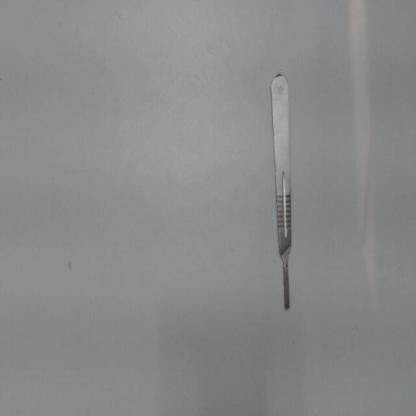No.4 BP Handle: (263, 67, 296, 316)
